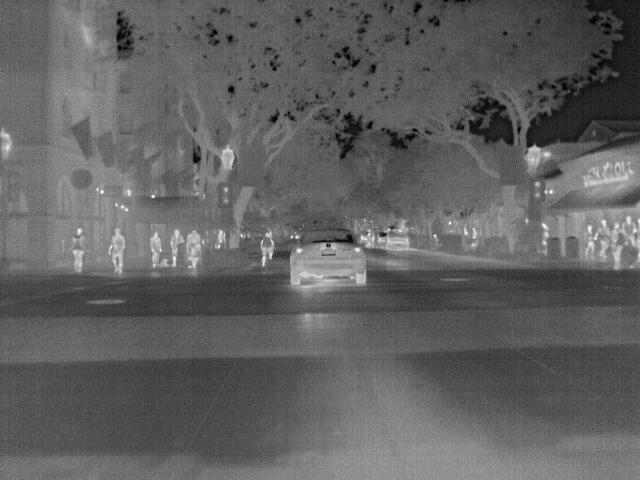car: (287, 227, 369, 289), (383, 229, 411, 250)
person: (105, 227, 128, 275), (69, 226, 87, 273), (183, 227, 203, 268), (594, 220, 612, 262), (257, 230, 275, 267), (169, 228, 186, 267), (148, 228, 164, 267), (621, 214, 639, 244), (582, 221, 596, 258)
